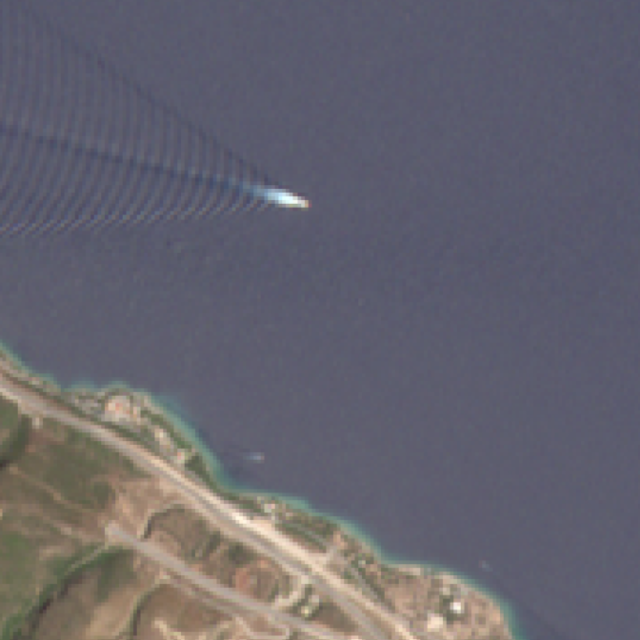wake: (20, 54, 348, 282)
